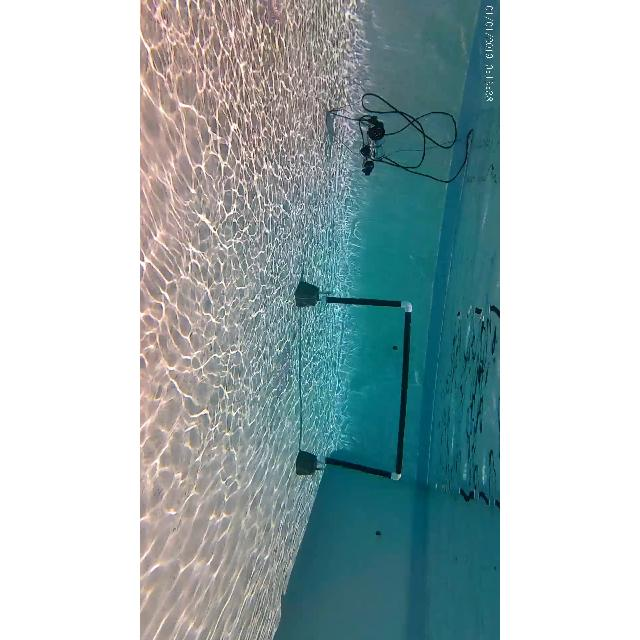prequal gate: (320, 296, 412, 480)
prequal gate leg l: (324, 282, 414, 318)
prequal gate leg r: (322, 452, 412, 492)
